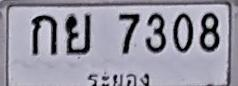0: (172, 11, 193, 52)
3: (145, 12, 166, 53)
7: (118, 13, 140, 54)
8: (199, 12, 219, 52)
A01: (31, 14, 57, 55)
A34: (64, 13, 92, 55)
RYG: (87, 71, 152, 86)
